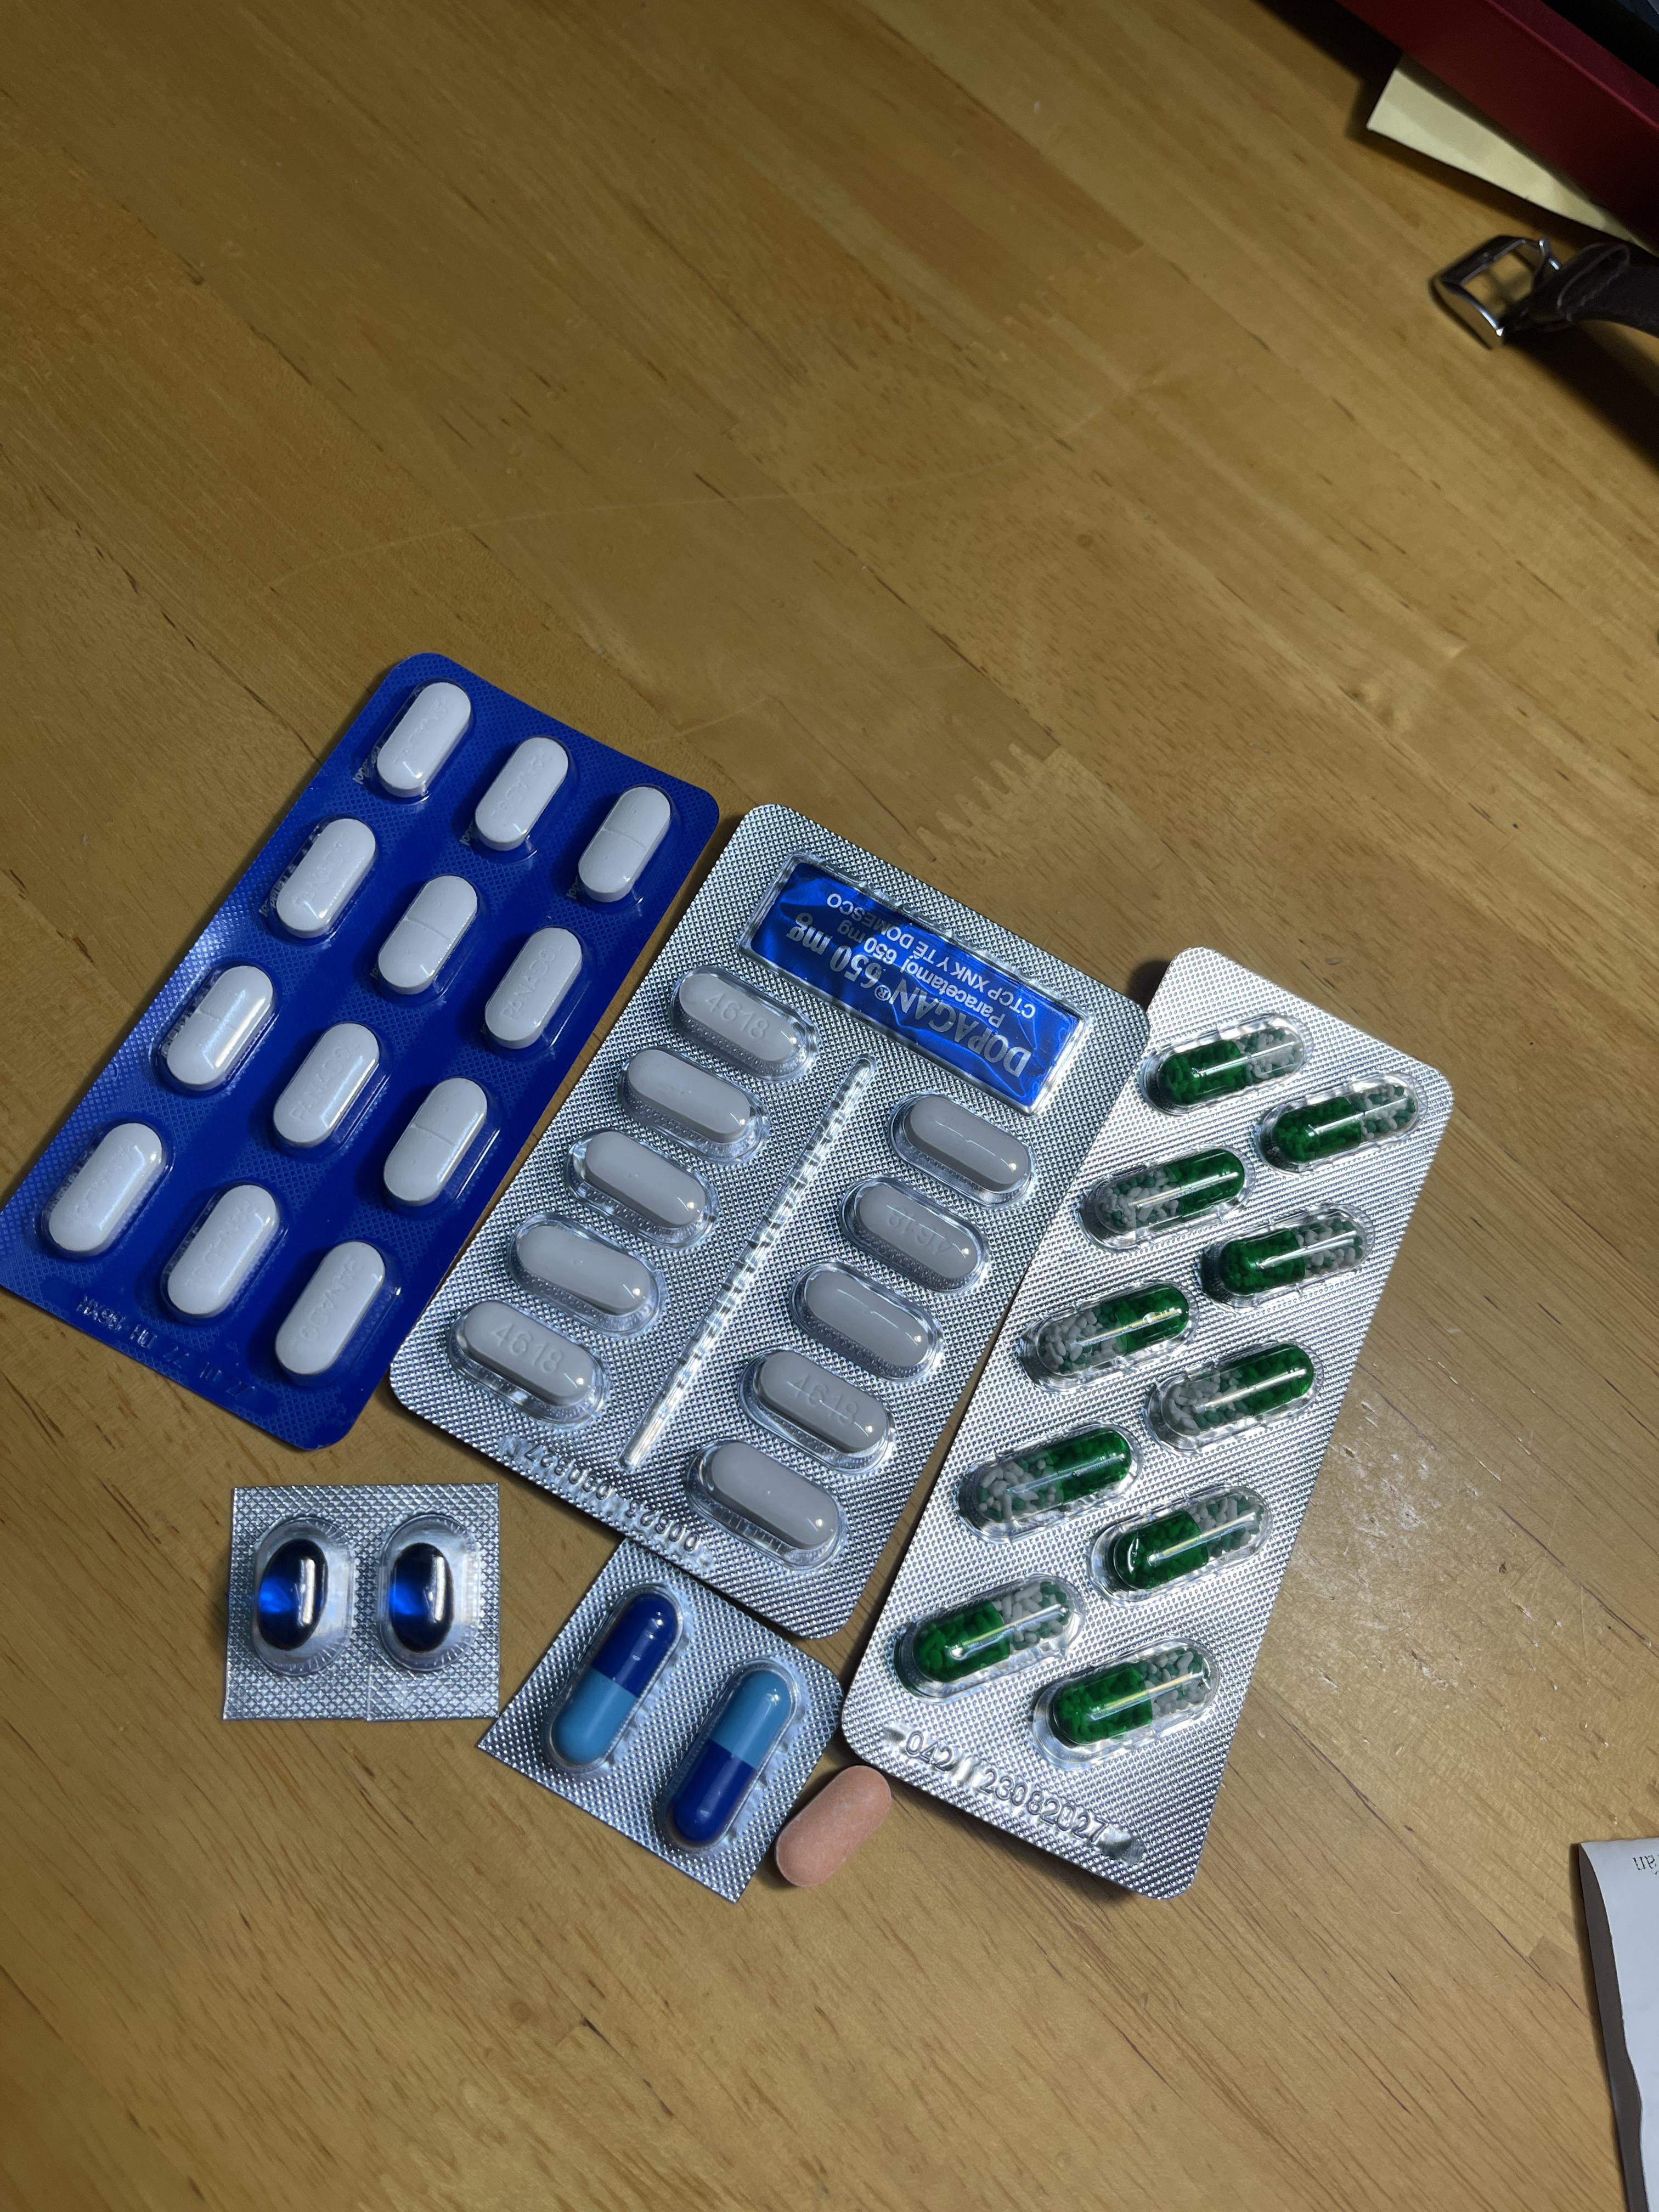Lincomyxin_500mg: (254, 1538, 329, 1649), (385, 1541, 455, 1649)
Loratadine_10mg: (772, 1763, 892, 1886)
Paracetamol_350mg: (42, 1120, 167, 1261), (160, 1181, 282, 1325), (272, 1238, 390, 1383), (268, 1021, 385, 1155), (159, 963, 277, 1094), (382, 1076, 491, 1212), (268, 815, 378, 942), (373, 874, 479, 1001), (481, 927, 586, 1052), (369, 681, 472, 801), (469, 735, 570, 855), (573, 786, 674, 904)
Paracetamol_500mg: (507, 1212, 664, 1339), (748, 1345, 897, 1472), (453, 1298, 606, 1420), (688, 1439, 845, 1557), (842, 1176, 992, 1298), (789, 1263, 931, 1379), (674, 967, 816, 1082), (892, 1089, 1032, 1202), (577, 1129, 714, 1240), (622, 1045, 762, 1153)
Paracetamol_650mg: (892, 1576, 1079, 1695), (1042, 1635, 1218, 1756), (1101, 1479, 1269, 1595), (957, 1425, 1134, 1533), (1019, 1280, 1187, 1383), (1157, 1341, 1316, 1446), (1204, 1205, 1373, 1303), (1082, 1144, 1237, 1247), (1140, 1017, 1302, 1115), (1258, 1078, 1419, 1170)
pill: (666, 1667, 795, 1846), (551, 1592, 680, 1768)
